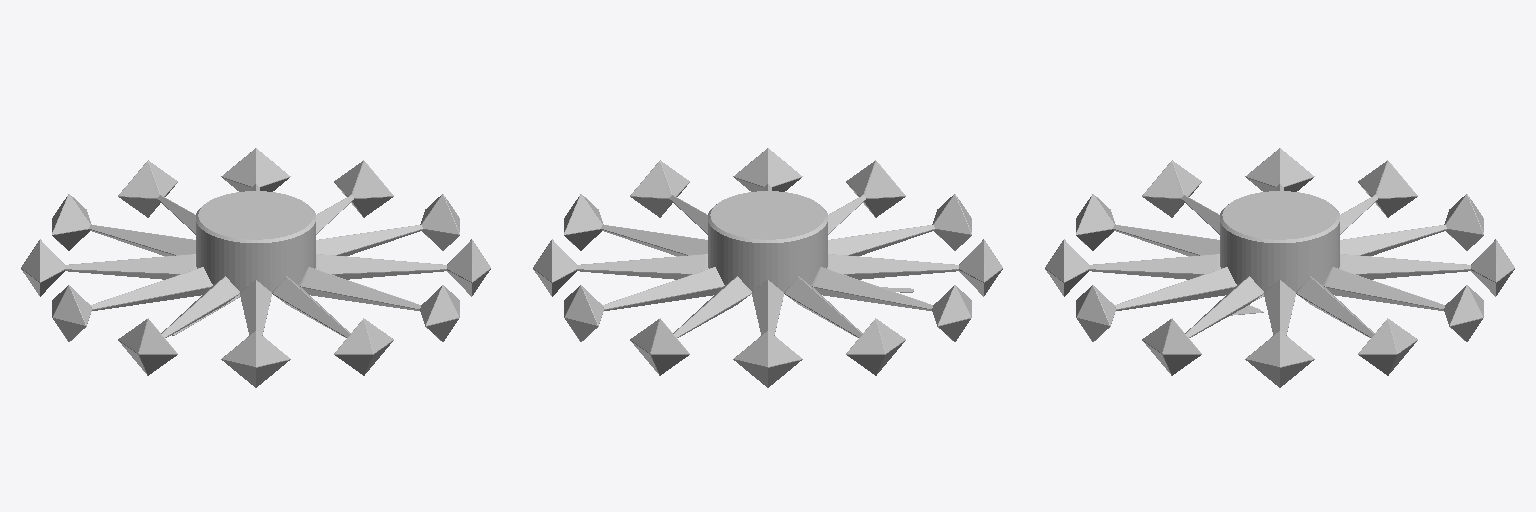
The model's file is kitchenclock.obj.
The picture shows the model from 3 angles: view 1: azimuth 30°, elevation 25°; view 2: azimuth 150°, elevation 25°; view 3: azimuth 270°, elevation 25°; orthographic projection.
Parts seen in each view (by area): view 1: Vitra_Polygon_Clock_Nelson; view 2: Vitra_Polygon_Clock_Nelson; view 3: Vitra_Polygon_Clock_Nelson.
Part boxes in pixels (x1,y1,x2,y2): Vitra_Polygon_Clock_Nelson: (21,148,490,387); Vitra_Polygon_Clock_Nelson: (533,148,1002,387); Vitra_Polygon_Clock_Nelson: (1045,148,1514,387).
Size of the model in its own units: 43 by 8.2 by 43.